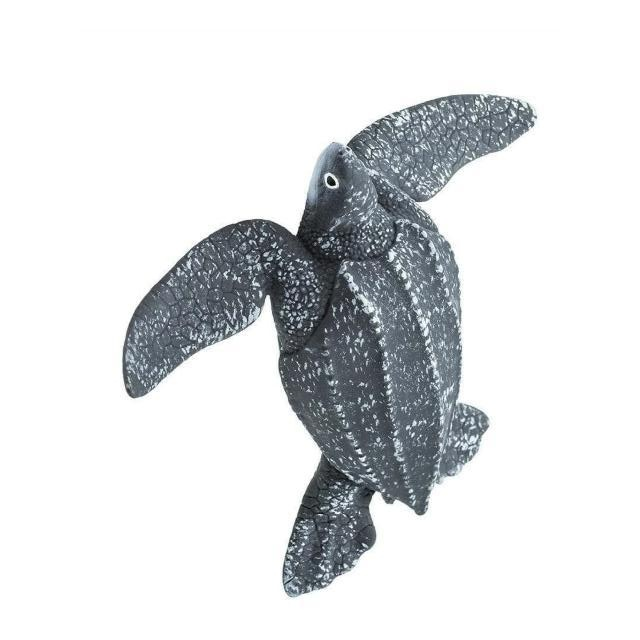turtle: (121, 92, 539, 599)
